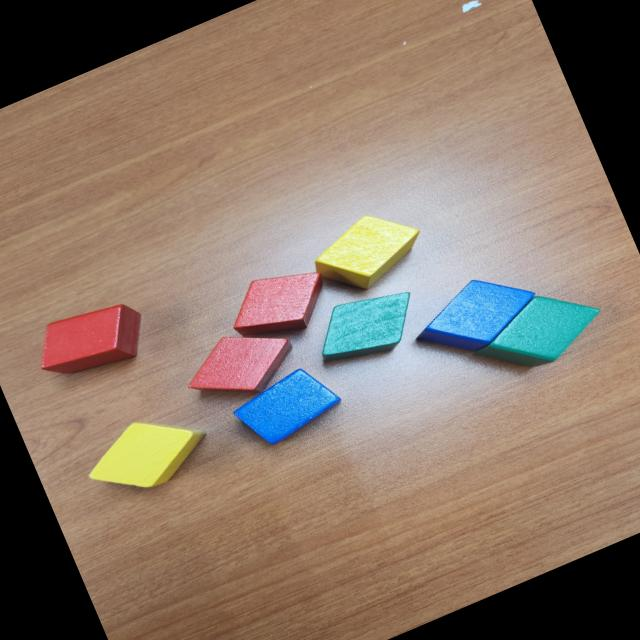blue: (402, 258, 547, 370), (225, 358, 348, 456)
green: (462, 275, 612, 389), (303, 276, 427, 378)
red: (174, 312, 306, 419), (26, 288, 158, 393), (220, 255, 338, 352)
yellow: (74, 396, 218, 509), (303, 198, 434, 304)
